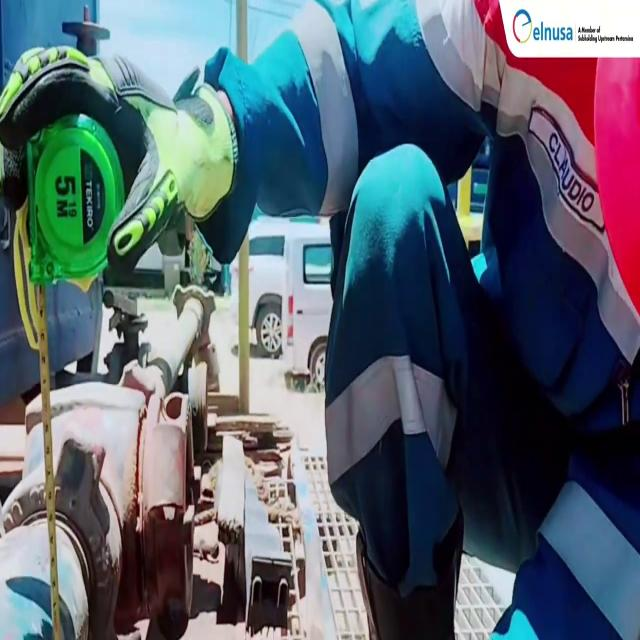Gloves: (2, 48, 234, 260)
Overall Suit: (229, 55, 640, 640)
